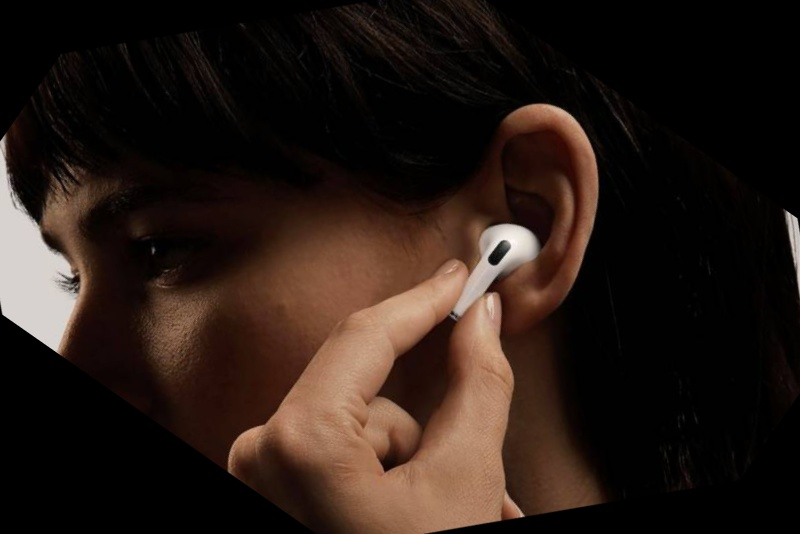earphone: (321, 24, 719, 422)
